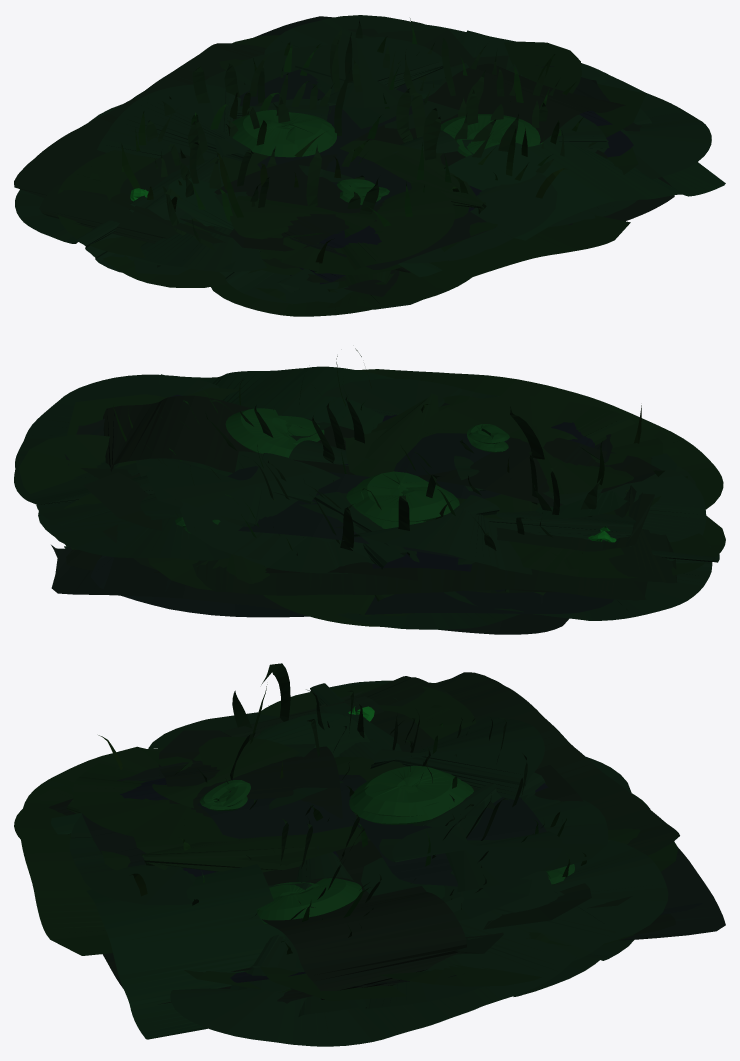
File: Path.fbx
3 views of the same model, one above another, from view 1: azimuth 30°, elevation 25°; view 2: azimuth 150°, elevation 25°; view 3: azimuth 270°, elevation 25° (orthographic). The views are drawn at different scales.
Visible parts, largest first — view 1: Patch1; view 2: Patch1; view 3: Patch1.
Boxes of the visible parts, bbox=[...] form: Patch1: bbox=[14, 15, 725, 316]; Patch1: bbox=[14, 348, 725, 634]; Patch1: bbox=[14, 663, 725, 1046].
Size of the model in its own units: 1.23 by 0.2823 by 1.05.
